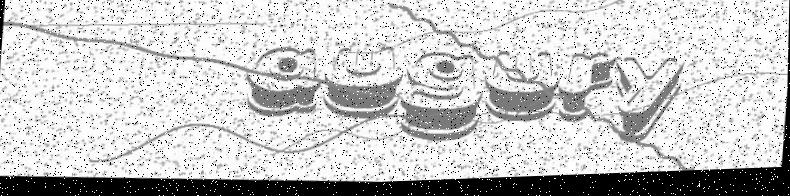a: (242, 45, 325, 122)
g: (398, 50, 487, 148)
r: (556, 54, 616, 131)
u: (321, 46, 405, 125), (483, 51, 562, 128)
y: (610, 58, 684, 150)
